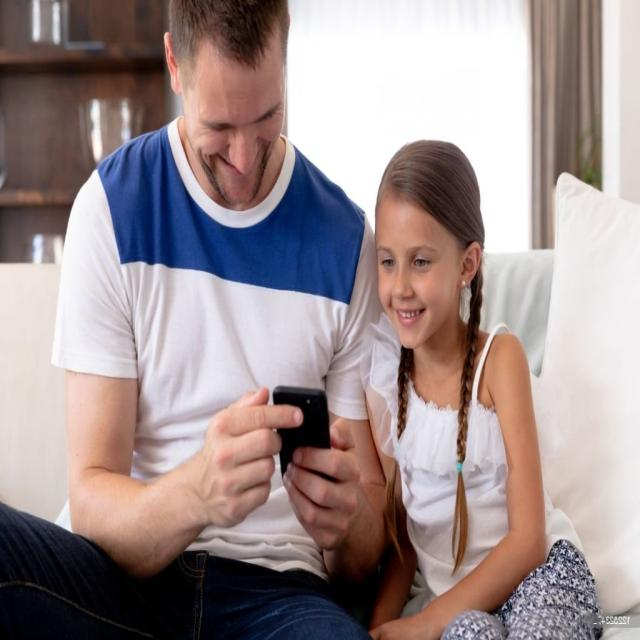phone: (272, 385, 332, 501)
